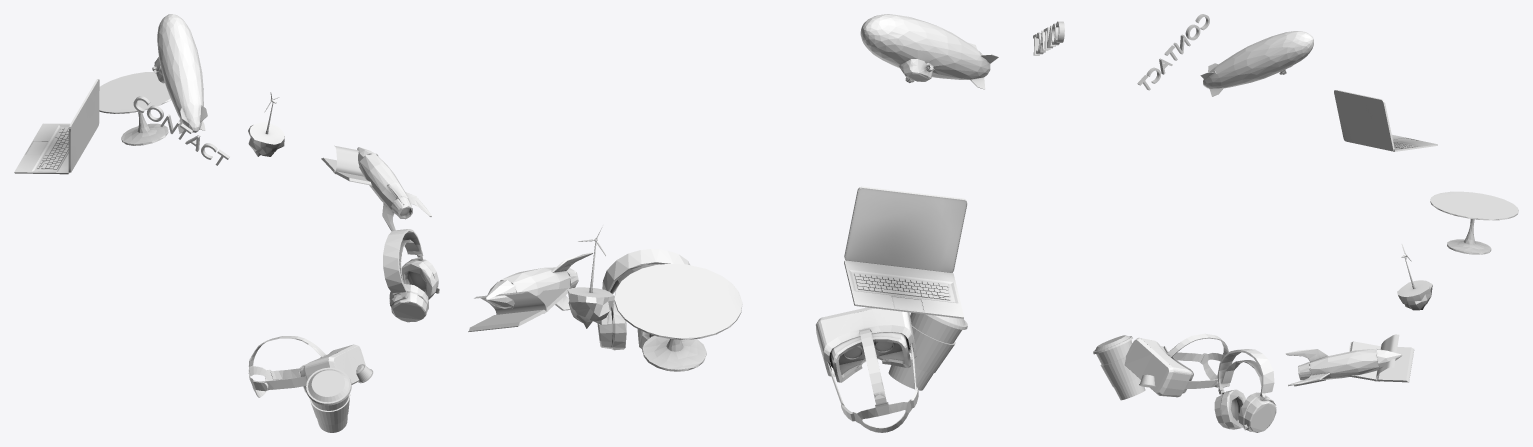
Rendered from scroll.glb.
The picture shows the model from 3 angles, left to right: view 1: azimuth 30°, elevation 25°; view 2: azimuth 150°, elevation 25°; view 3: azimuth 270°, elevation 25°; orthographic projection. The views are drawn at different scales.
Visible parts, largest first — view 1: Zeppelin, Headphones, Notebook, Table, VR Headset, Coffee, Rocket.003, Roundcube.001, Book, Contect; view 2: Notebook, Table, VR Headset, Zeppelin, Coffee, Headphones, Rocket.003, Book, Roundcube.001, Contect; view 3: Zeppelin, VR Headset, Headphones, Notebook, Table, Rocket.003, Coffee, Book, Roundcube.001, Contect.
Part boxes in pixels (<box>): Zeppelin: <box>152,14,207,133</box>; Headphones: <box>383,229,439,322</box>; Notebook: <box>14,79,99,174</box>; Table: <box>99,71,171,145</box>; VR Headset: <box>248,336,365,397</box>; Coffee: <box>305,364,373,432</box>; Rocket.003: <box>357,147,431,231</box>; Roundcube.001: <box>248,92,284,156</box>; Book: <box>321,145,378,185</box>; Contect: <box>133,96,229,165</box>; Notebook: <box>844,186,967,318</box>; Table: <box>614,264,742,371</box>; VR Headset: <box>815,307,918,432</box>; Zeppelin: <box>860,14,998,89</box>; Coffee: <box>888,312,967,390</box>; Headphones: <box>597,249,689,350</box>; Rocket.003: <box>486,252,593,310</box>; Book: <box>468,288,569,331</box>; Roundcube.001: <box>567,227,614,328</box>; Contect: <box>1033,21,1064,55</box>; Zeppelin: <box>1200,31,1313,96</box>; VR Headset: <box>1124,333,1228,397</box>; Headphones: <box>1214,349,1276,432</box>; Notebook: <box>1334,90,1437,151</box>; Table: <box>1430,191,1518,254</box>; Rocket.003: <box>1285,348,1402,386</box>; Coffee: <box>1093,335,1155,400</box>; Book: <box>1348,334,1414,382</box>; Roundcube.001: <box>1397,244,1432,310</box>; Contect: <box>1137,14,1209,90</box>.
Bounding box in the file's own units: 21.64 × 20.51 × 23.48.
Materials: 10 (7 with a texture image).
